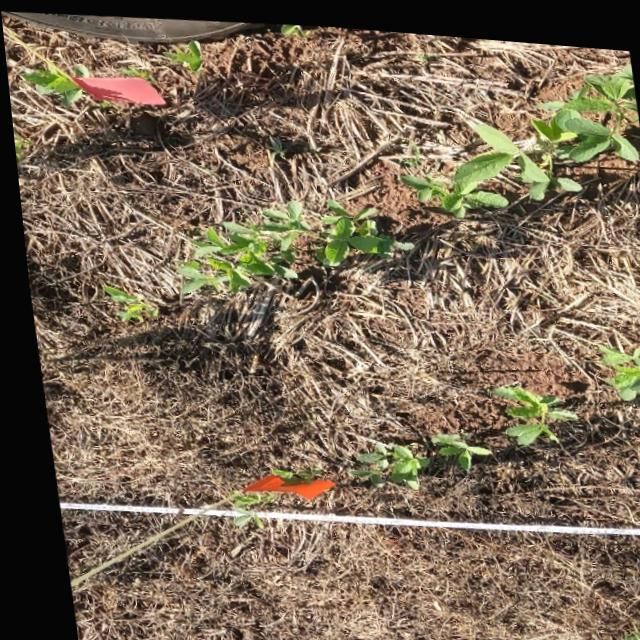soy_plant: (397, 56, 637, 210), (171, 194, 406, 289), (485, 378, 568, 437), (342, 437, 417, 482), (592, 335, 640, 390), (421, 427, 480, 462), (96, 283, 149, 319), (22, 69, 77, 103), (162, 36, 200, 69), (216, 488, 264, 504), (599, 618, 633, 640), (280, 19, 301, 30), (72, 64, 85, 75)
